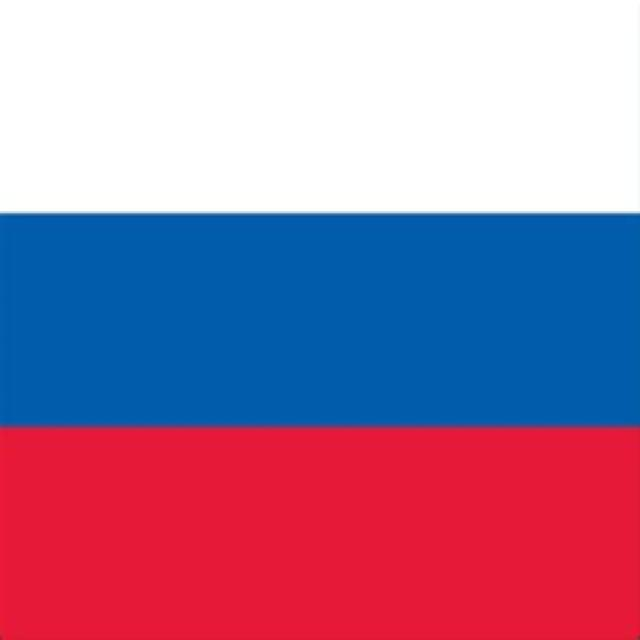russia: (3, 6, 640, 633)
